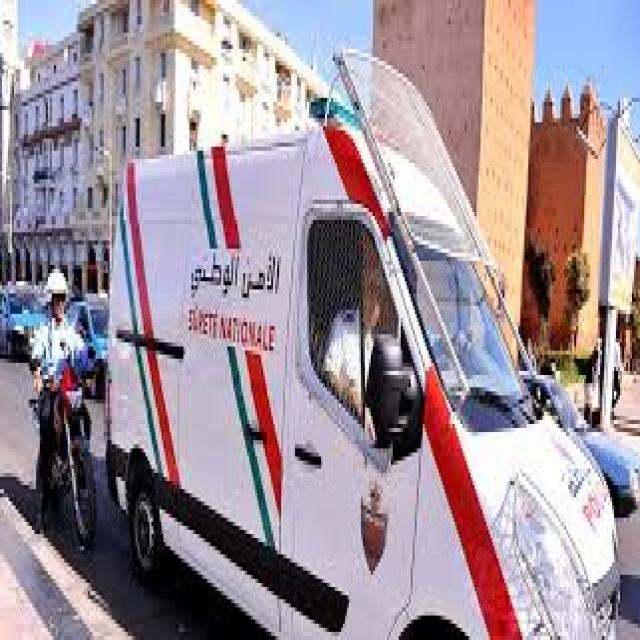police: (108, 87, 620, 637)
